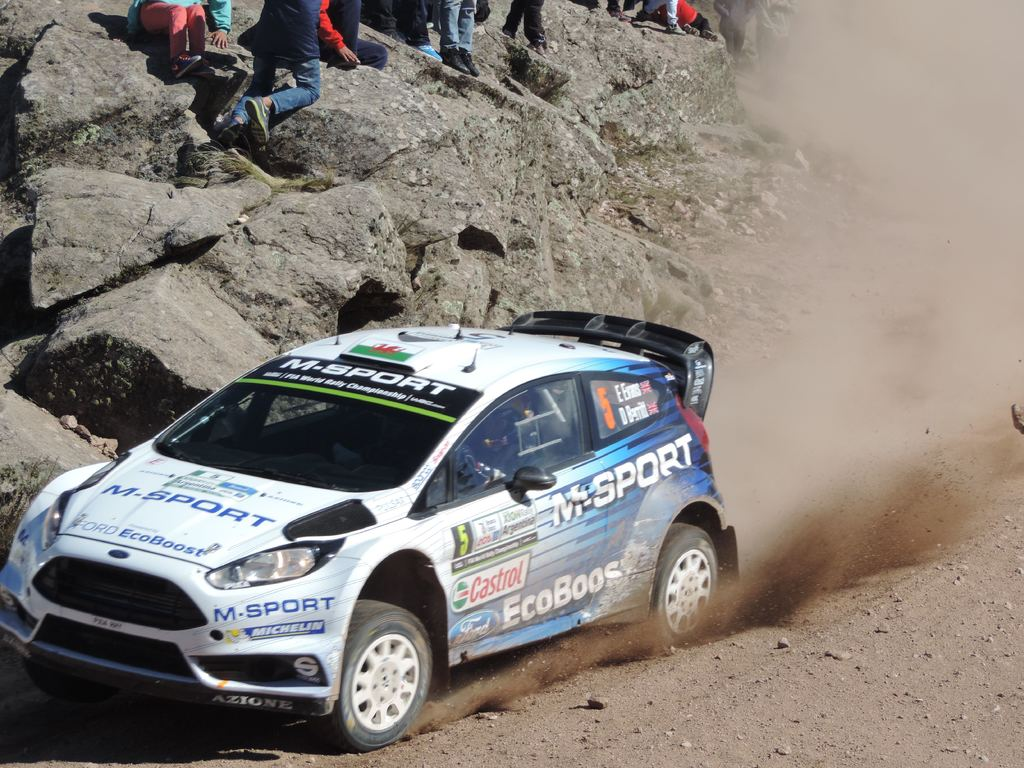Person: (116, 0, 814, 151), (465, 399, 558, 487)
